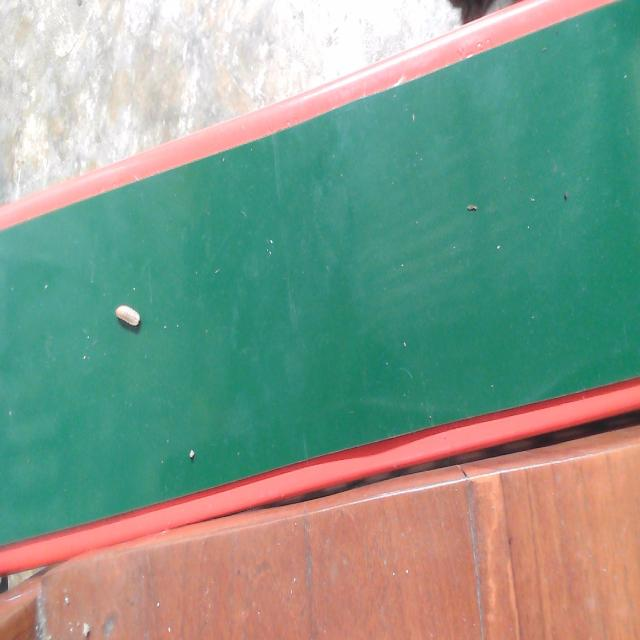Maggot: (113, 304, 141, 334)
